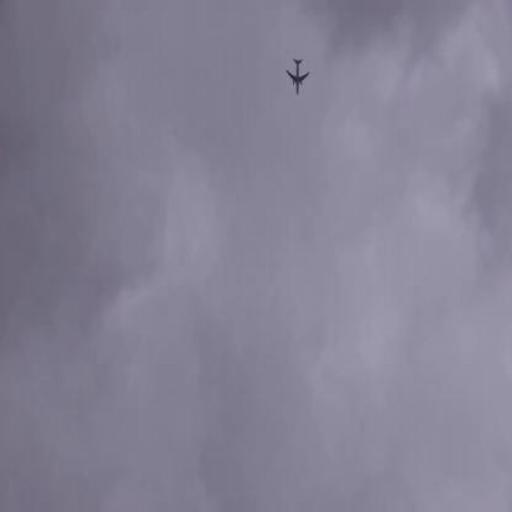aircraft: (286, 58, 311, 95)
